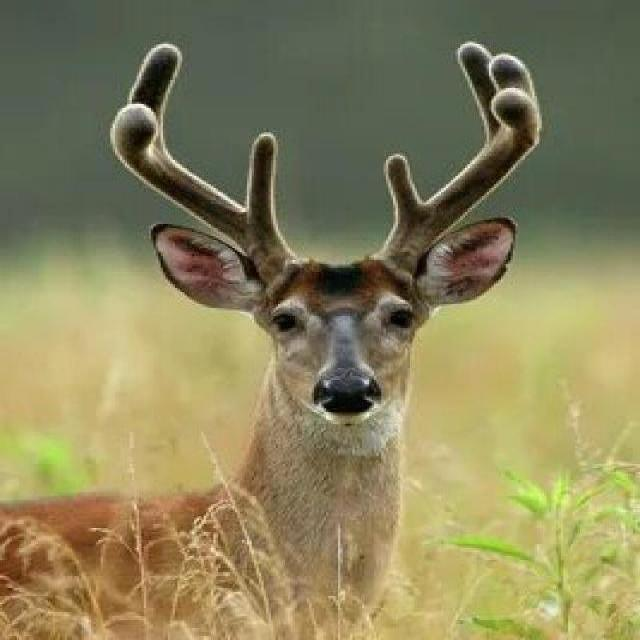deer: (57, 30, 558, 583)
